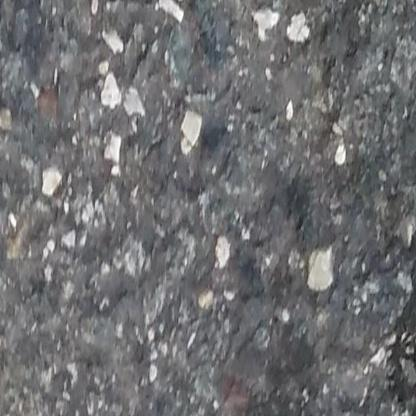Cracks: (373, 137, 416, 416)
